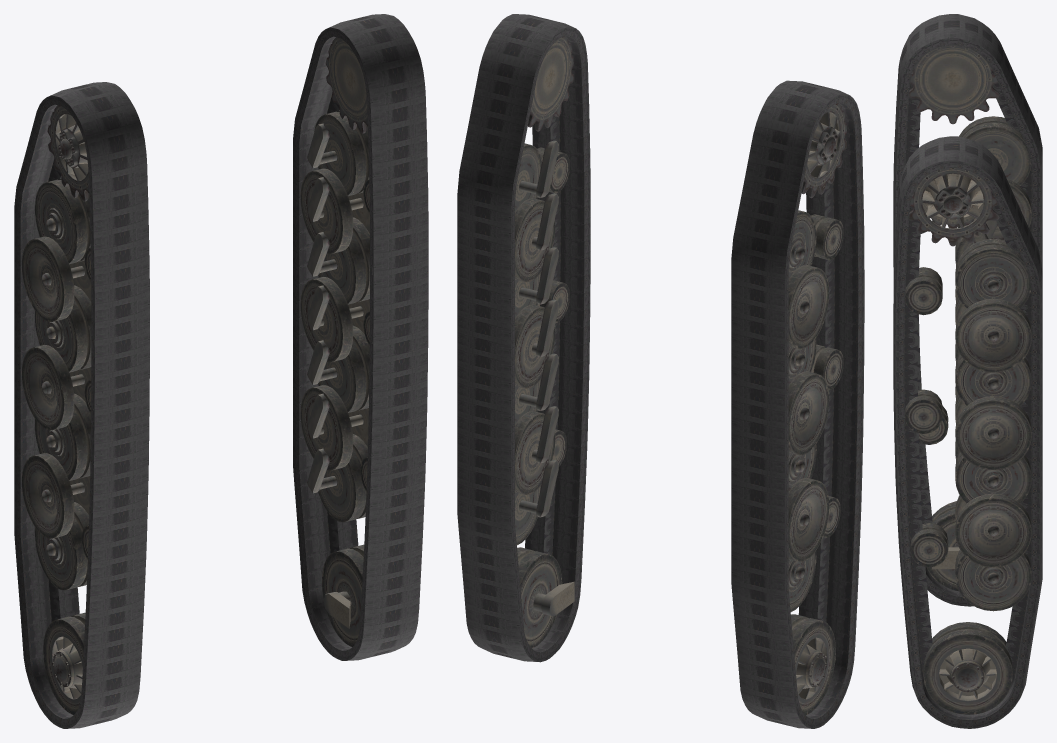
File: Chassis.glb
The picture shows the model from 3 angles, left to right: view 1: azimuth 30°, elevation 25°; view 2: azimuth 150°, elevation 25°; view 3: azimuth 270°, elevation 25°; orthographic projection. The views are drawn at different scales.
Visible parts, largest first — view 1: set_0_group_0, set_1_group_0, set_3_group_0, set_2_group_0; view 2: set_0_group_0, set_1_group_0, set_3_group_0, set_2_group_0; view 3: set_3_group_0, set_1_group_0, set_0_group_0, set_2_group_0.
Boxes of the visible parts, x1,y1,x2,y2 form: set_0_group_0: [14, 82, 149, 728]; set_1_group_0: [293, 14, 428, 660]; set_3_group_0: [300, 37, 369, 646]; set_2_group_0: [22, 105, 91, 714]; set_0_group_0: [731, 80, 864, 728]; set_1_group_0: [457, 14, 590, 662]; set_3_group_0: [515, 36, 574, 648]; set_2_group_0: [788, 103, 846, 714]; set_3_group_0: [905, 168, 1031, 714]; set_1_group_0: [893, 136, 1042, 728]; set_0_group_0: [893, 14, 1042, 606]; set_2_group_0: [909, 45, 1031, 591].
Size of the model in its own units: 3.17 by 5.77 by 1.37.
4 materials, 4 textured.
